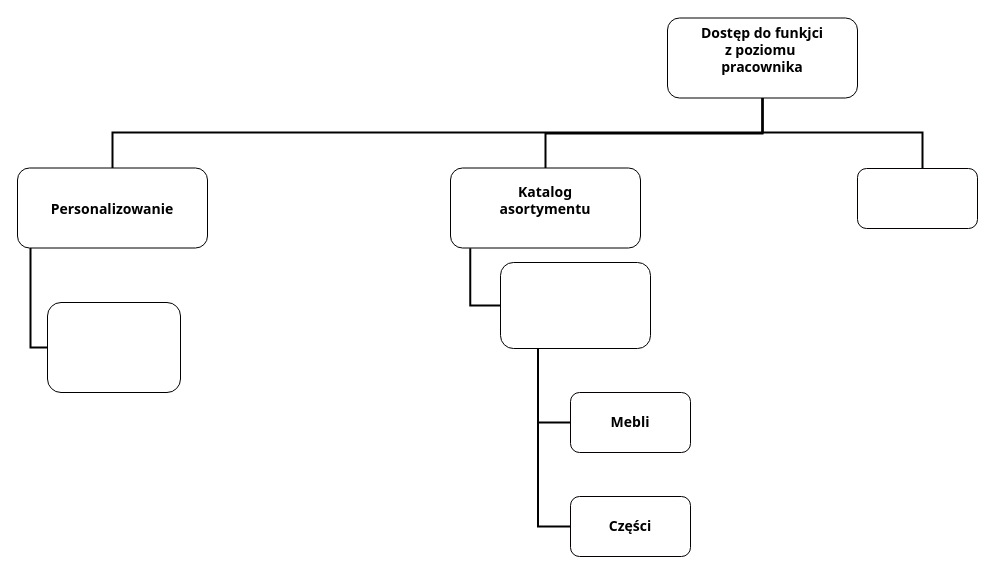
Image size: 995x574. Some labels were removed from this diagram. Here are the shapes that lost their labels. From the top down, the centre of each, then its label:
At [917,198]: "Edycja danych asortymentu".
At [575,305]: "Dodawanie nowych treści".
At [113,347]: "Akceptacja formularzy".
